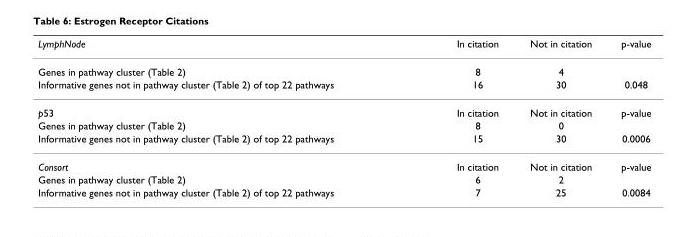table: (37, 37, 650, 197)
table column: (37, 37, 394, 197), (394, 37, 513, 197), (513, 37, 605, 197), (605, 37, 650, 197)
table column header: (37, 37, 650, 57)
table row: (37, 77, 650, 98), (37, 131, 650, 152), (37, 37, 650, 57), (37, 57, 650, 77), (37, 98, 650, 118), (37, 152, 650, 172), (37, 118, 650, 131), (37, 172, 650, 185), (37, 185, 650, 197)
